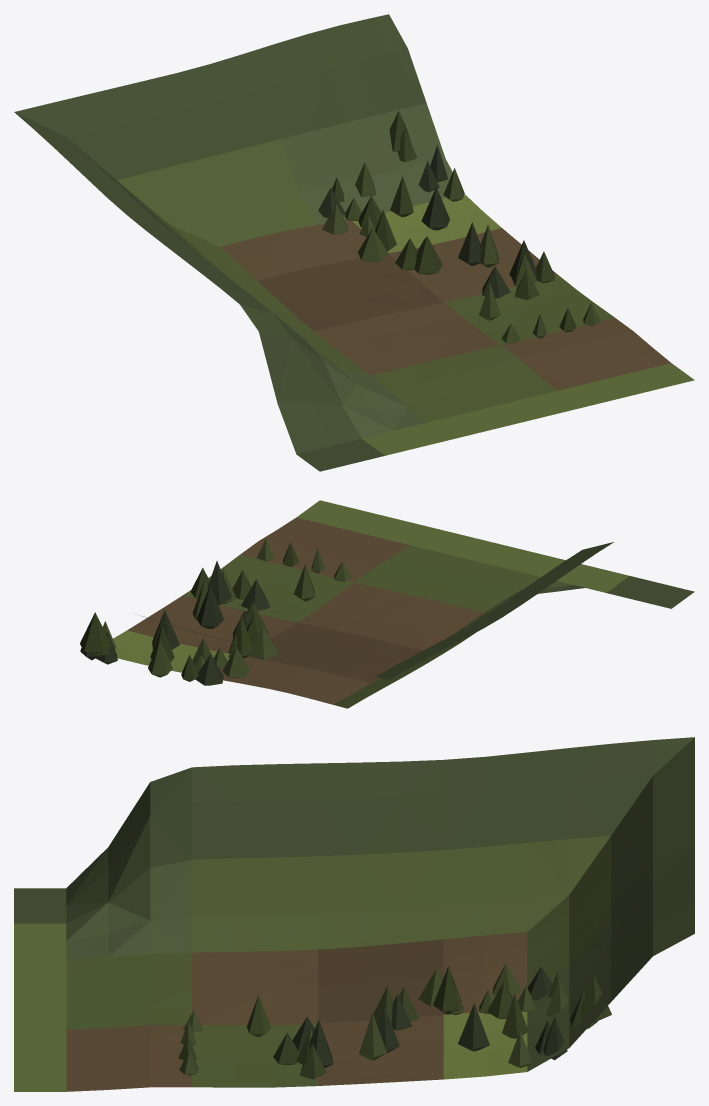
File: backdrop-north-west.glb
The picture shows the model from 3 angles, top to bottom: view 1: azimuth 30°, elevation 25°; view 2: azimuth 150°, elevation 25°; view 3: azimuth 270°, elevation 25°; orthographic projection. The views are drawn at different scales.
Parts seen in each view (by area): view 1: backdrop-north-west; view 2: backdrop-north-west; view 3: backdrop-north-west.
Part boxes in pixels (left/top/right/bottom): backdrop-north-west: left=14, top=14, right=694, bottom=471; backdrop-north-west: left=80, top=500, right=694, bottom=708; backdrop-north-west: left=14, top=737, right=694, bottom=1091.
Bounding box in the file's own units: 92 × 33.5 × 130.
Materials: 1 (1 with a texture image).
